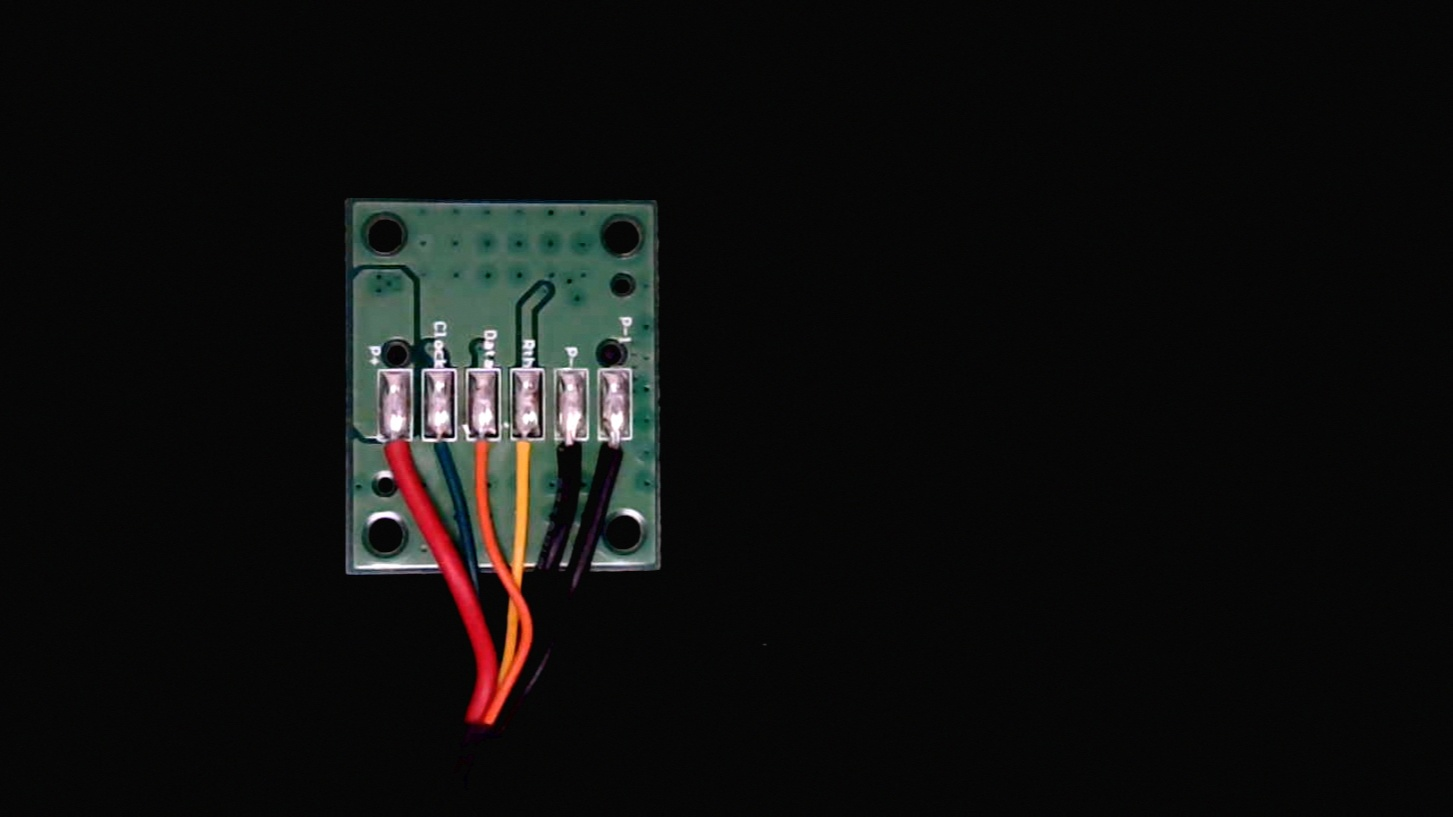Black: (554, 424, 594, 501)
Black1: (605, 424, 640, 494)
Green: (421, 420, 460, 501)
Orange: (468, 421, 505, 504)
Red: (378, 424, 417, 504)
Yellow: (512, 422, 549, 493)
